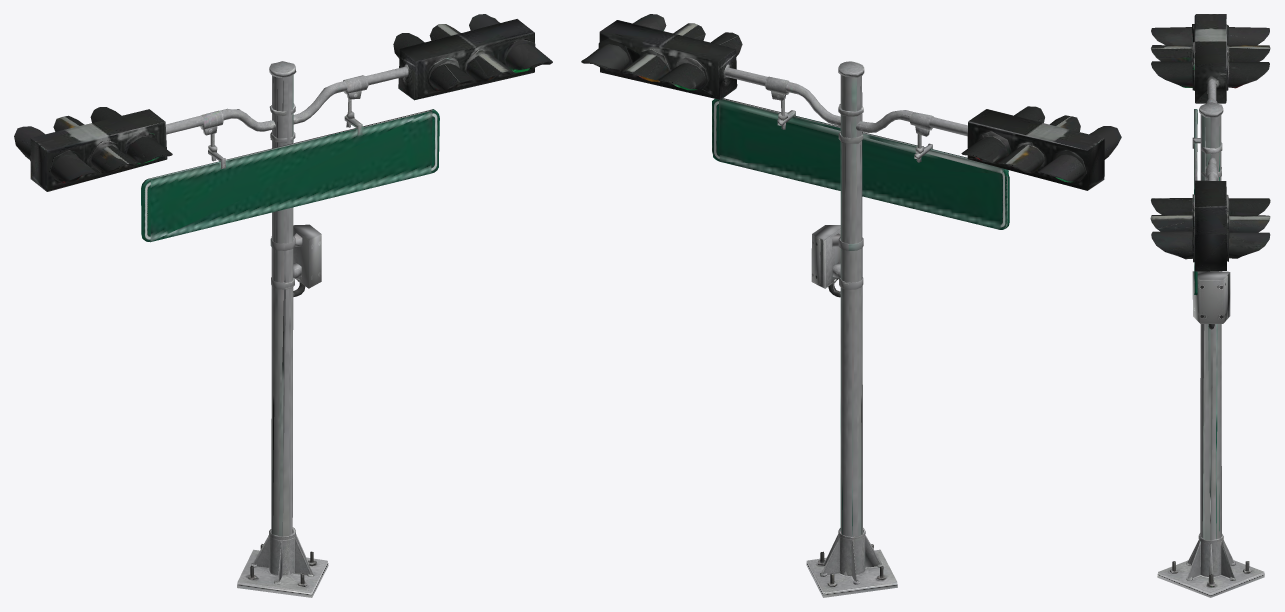
The model's file is trafficlight.glb.
3 renders of one model, left to right at view 1: azimuth 30°, elevation 25°; view 2: azimuth 150°, elevation 25°; view 3: azimuth 270°, elevation 25°, orthographic. The views are drawn at different scales.
Parts seen in each view (by area): view 1: Mesh_0; view 2: Mesh_0; view 3: Mesh_0.
Part boxes in pixels (bbox=[...]): Mesh_0: bbox=[14, 14, 552, 597]; Mesh_0: bbox=[581, 14, 1121, 597]; Mesh_0: bbox=[1150, 14, 1270, 597].
Bounding box in the file's own units: 1 × 1 × 0.2314.
1 material, 1 textured.
